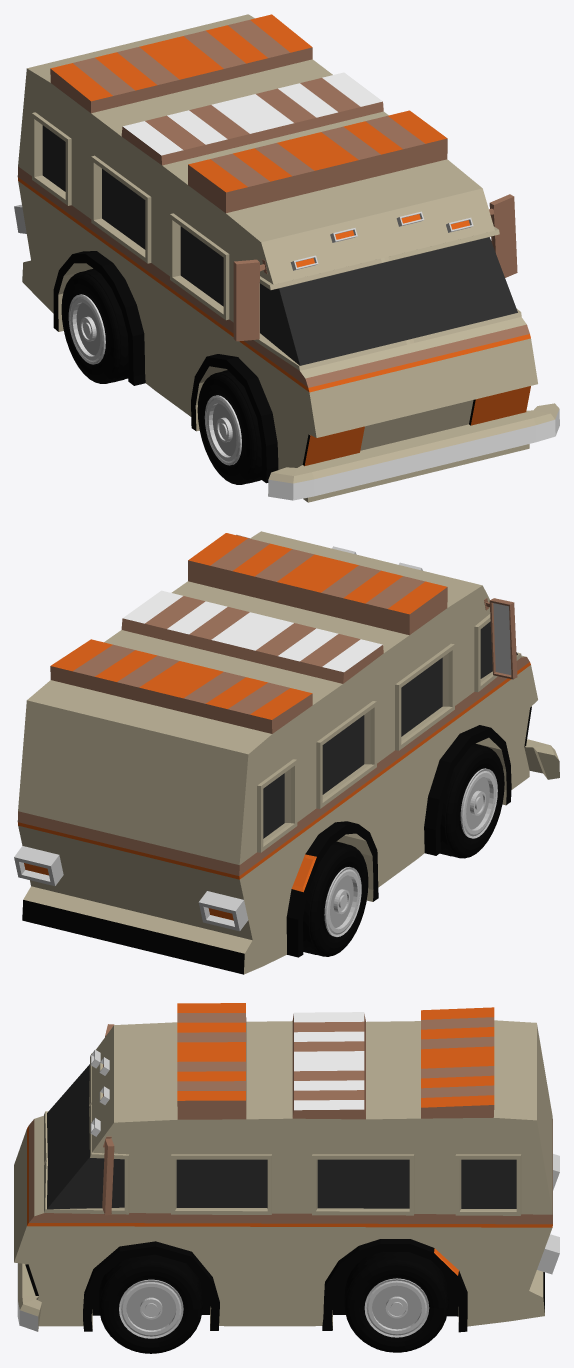
3 views of the same model, one above another, from view 1: azimuth 30°, elevation 25°; view 2: azimuth 150°, elevation 25°; view 3: azimuth 270°, elevation 25° (orthographic). The views are drawn at different scales.
Parts seen in each view (by area): view 1: BODY49A, WHEEL.004, WHEEL.001; view 2: BODY49A, WHEEL.004, WHEEL.001; view 3: BODY49A, WHEEL.002, WHEEL.003.
Part boxes in pixels (x1,y1,x2,y2): BODY49A: (14,14,559,502); WHEEL.004: (61,268,128,383); WHEEL.001: (197,370,261,484); BODY49A: (14,531,559,974); WHEEL.004: (303,841,368,956); WHEEL.001: (440,743,504,858); BODY49A: (14,1003,559,1332); WHEEL.002: (344,1251,448,1352); WHEEL.003: (99,1254,202,1353).
Size of the model in its own units: 152 by 137 by 273.
